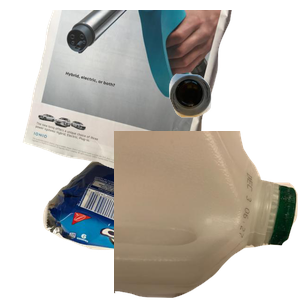glass: (166, 71, 300, 181)
paper: (20, 10, 244, 190)
plastic: (114, 131, 300, 300)
trash: (40, 158, 245, 300)
